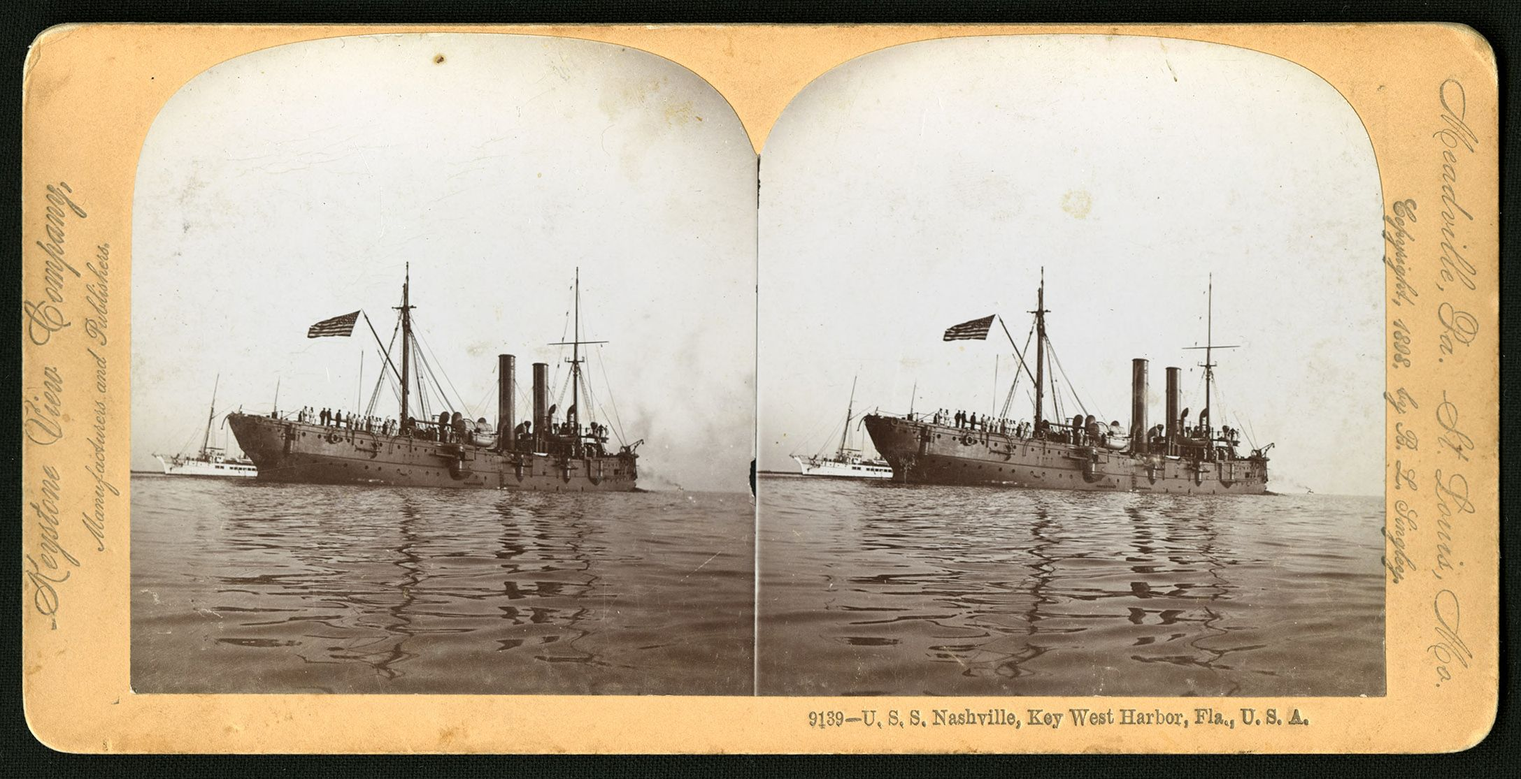half_image: (130, 31, 757, 697), (758, 34, 1387, 697)
